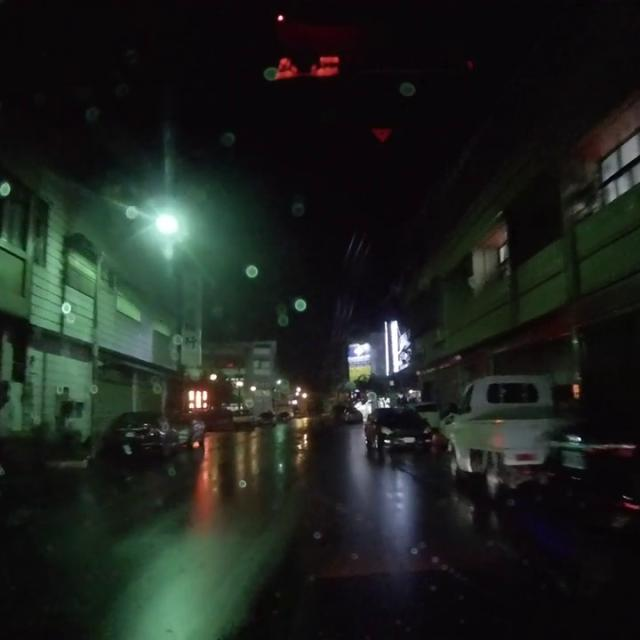Car: (103, 406, 178, 460), (361, 404, 434, 454)
